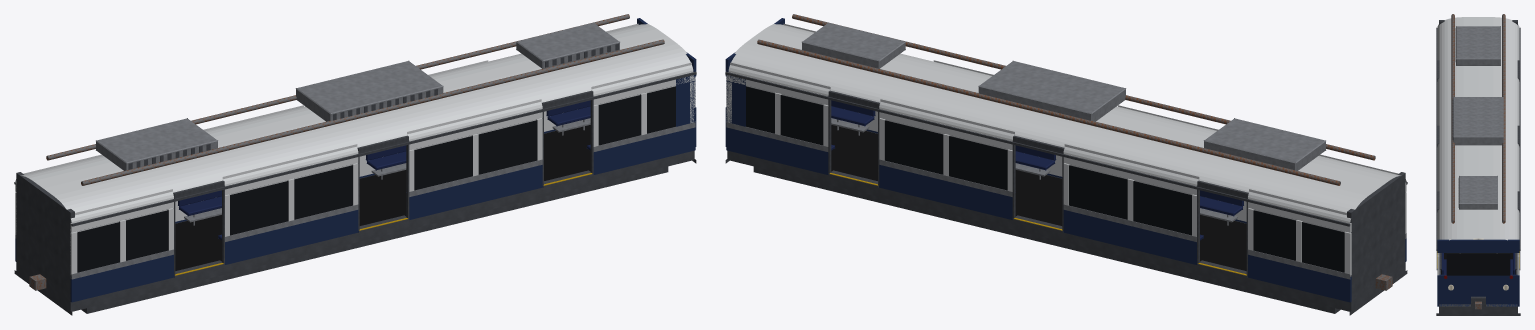
File: train_car_cab.obj
The picture shows the model from 3 angles, left to right: view 1: azimuth 30°, elevation 25°; view 2: azimuth 150°, elevation 25°; view 3: azimuth 270°, elevation 25°; orthographic projection. The views are drawn at different scales.
Visible parts, largest first — view 1: train_car_cab; view 2: train_car_cab; view 3: train_car_cab.
Boxes of the visible parts, x1,y1,x2,y2 form: train_car_cab: (14,14,696,315); train_car_cab: (725,14,1407,315); train_car_cab: (1436,14,1520,315).
Bounding box in the file's own units: 18.21 × 3.74 × 2.84.
